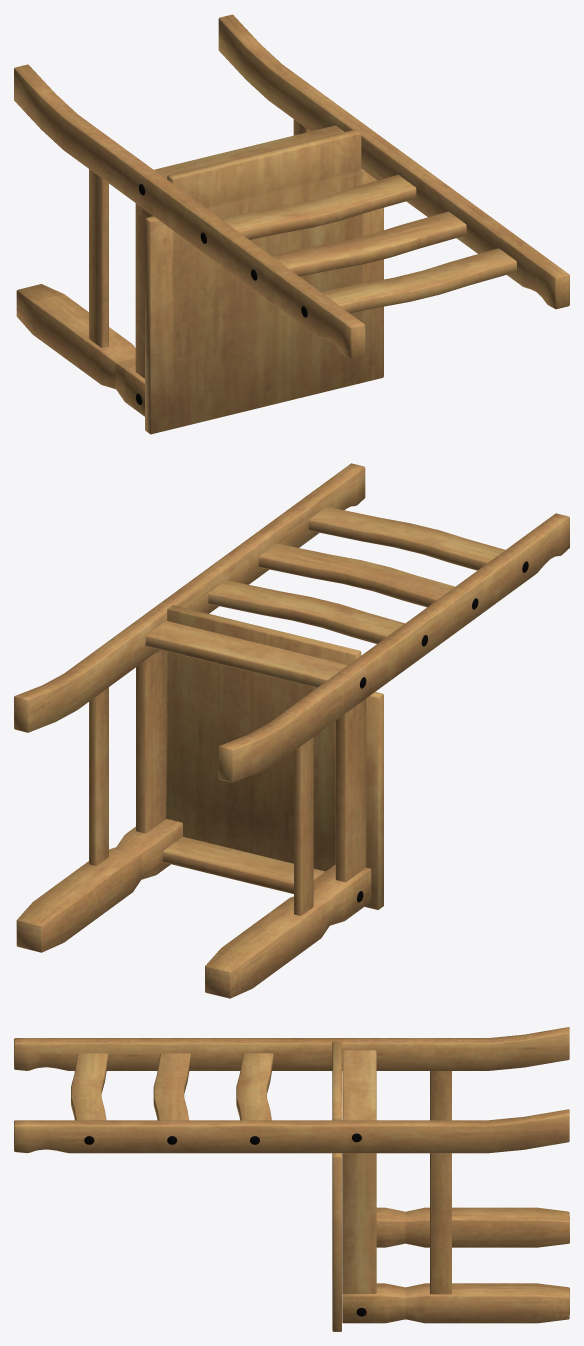
The model's file is DiningChair.obj.
3 renders of one model, top to bottom at view 1: azimuth 30°, elevation 25°; view 2: azimuth 150°, elevation 25°; view 3: azimuth 270°, elevation 25°, orthographic. The views are drawn at different scales.
Parts seen in each view (by area): view 1: DiningChair; view 2: DiningChair; view 3: DiningChair.
Part boxes in pixels (x1,y1,x2,y2): DiningChair: (14, 14, 569, 434); DiningChair: (14, 463, 569, 998); DiningChair: (14, 1027, 569, 1331).
Bounding box in the file's own units: 0.4163 × 0.4423 × 1.04.
